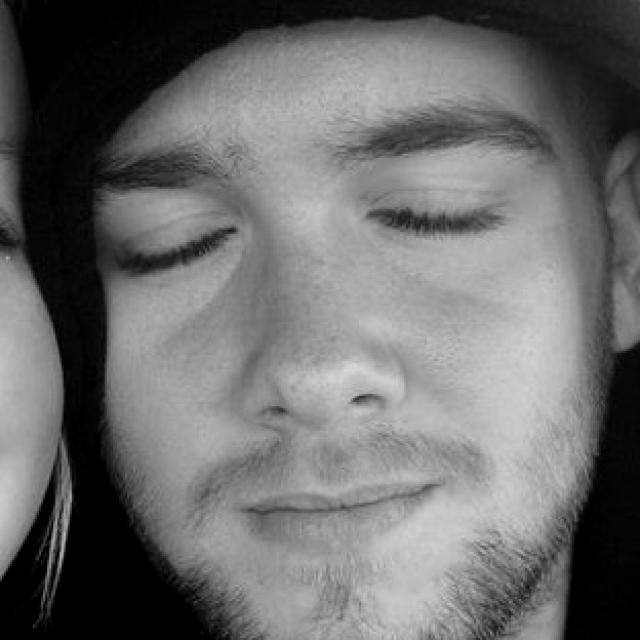real: (60, 24, 556, 636), (100, 170, 538, 278)
